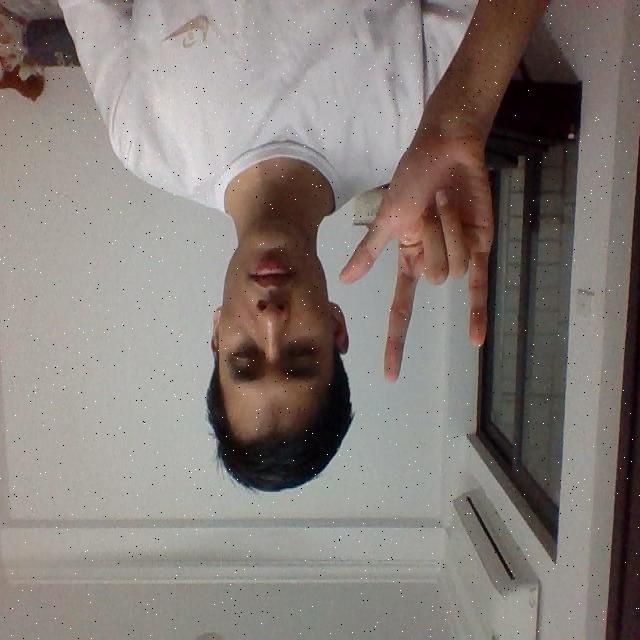love: (336, 131, 496, 392)
